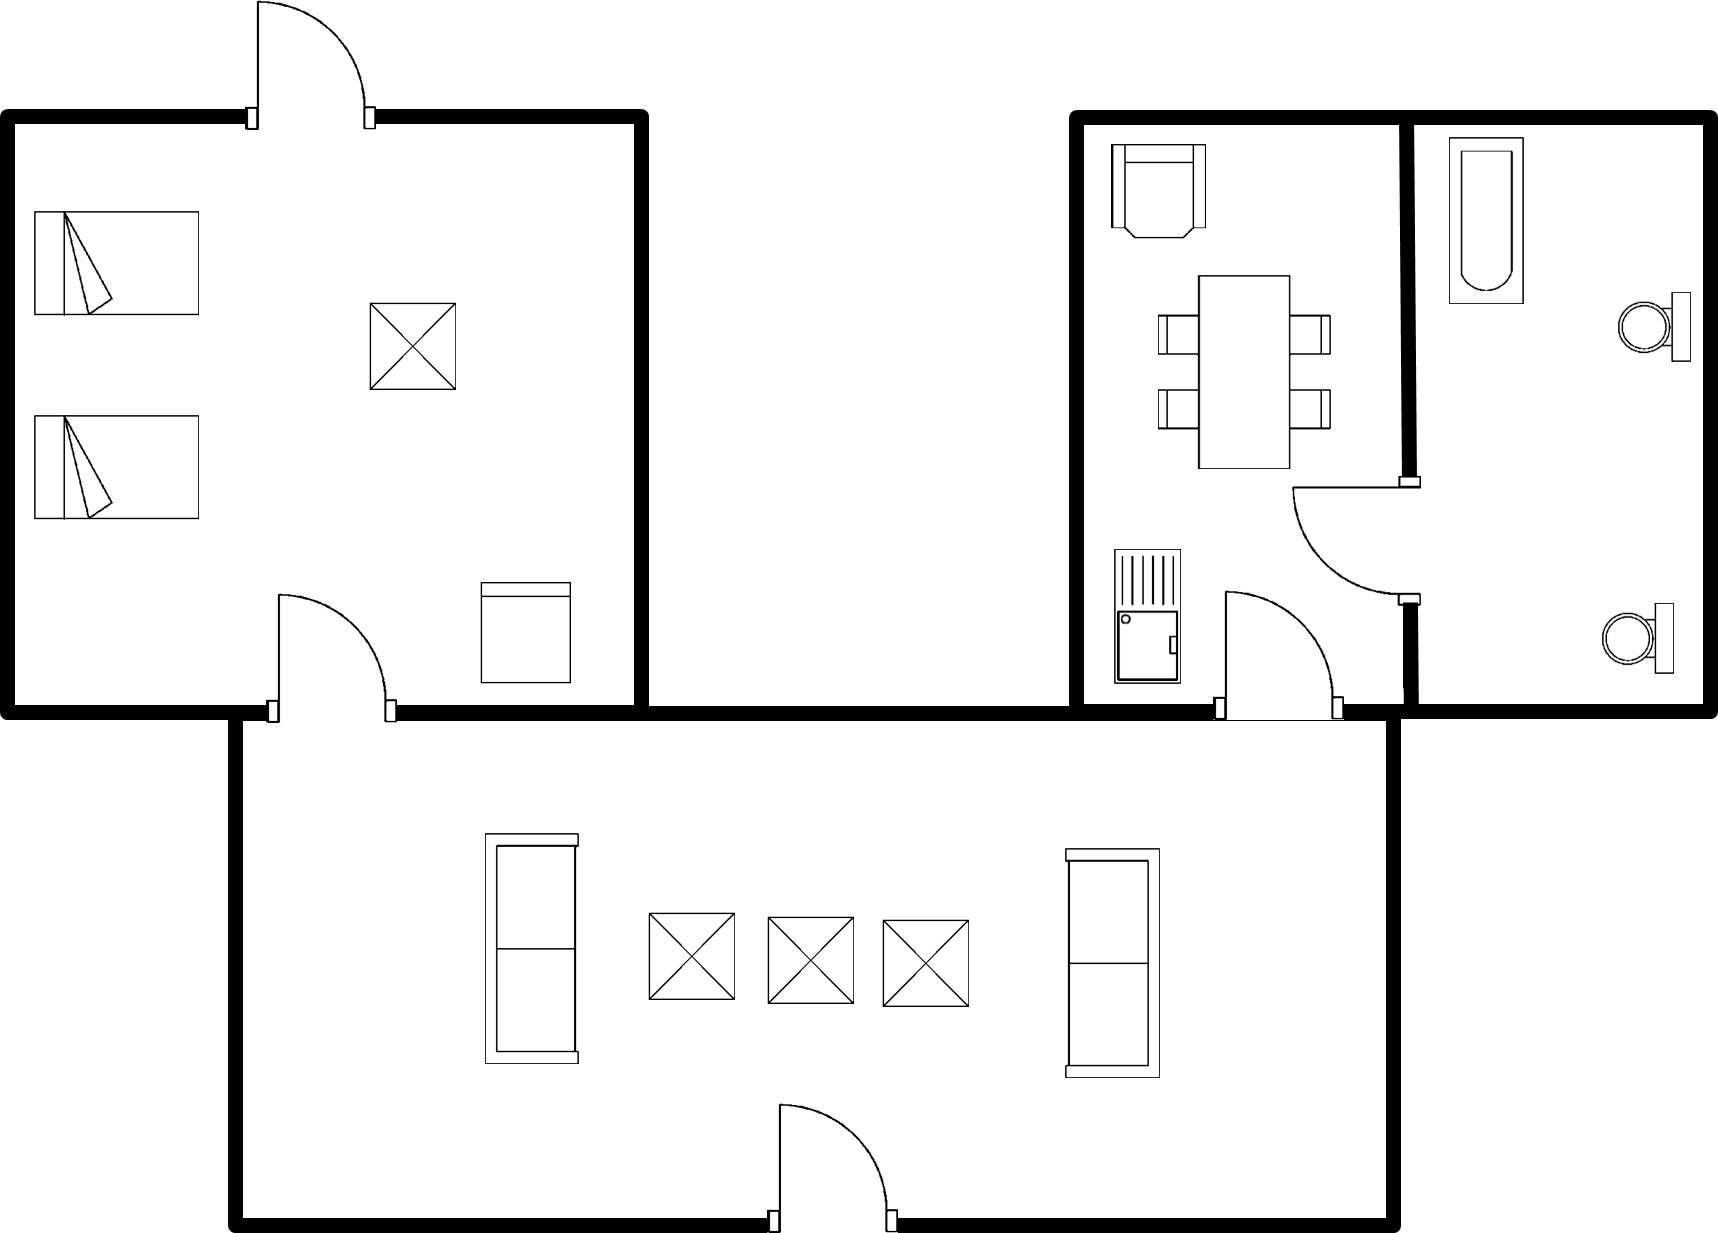bed: (25, 197, 209, 330), (21, 406, 208, 530)
dining_table: (1148, 264, 1337, 476)
sink: (1100, 538, 1190, 693)
sofa: (1055, 837, 1172, 1090)
toilet: (1611, 284, 1695, 374), (1594, 595, 1681, 681)
tub: (1441, 127, 1535, 320)
